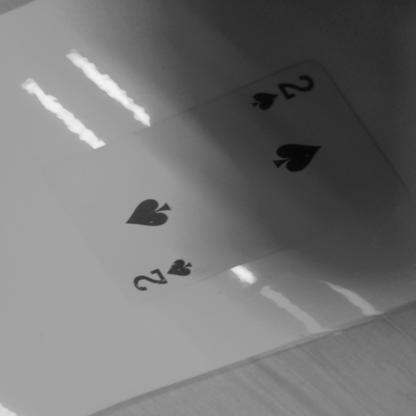2S: (228, 64, 341, 120), (109, 247, 210, 298)
